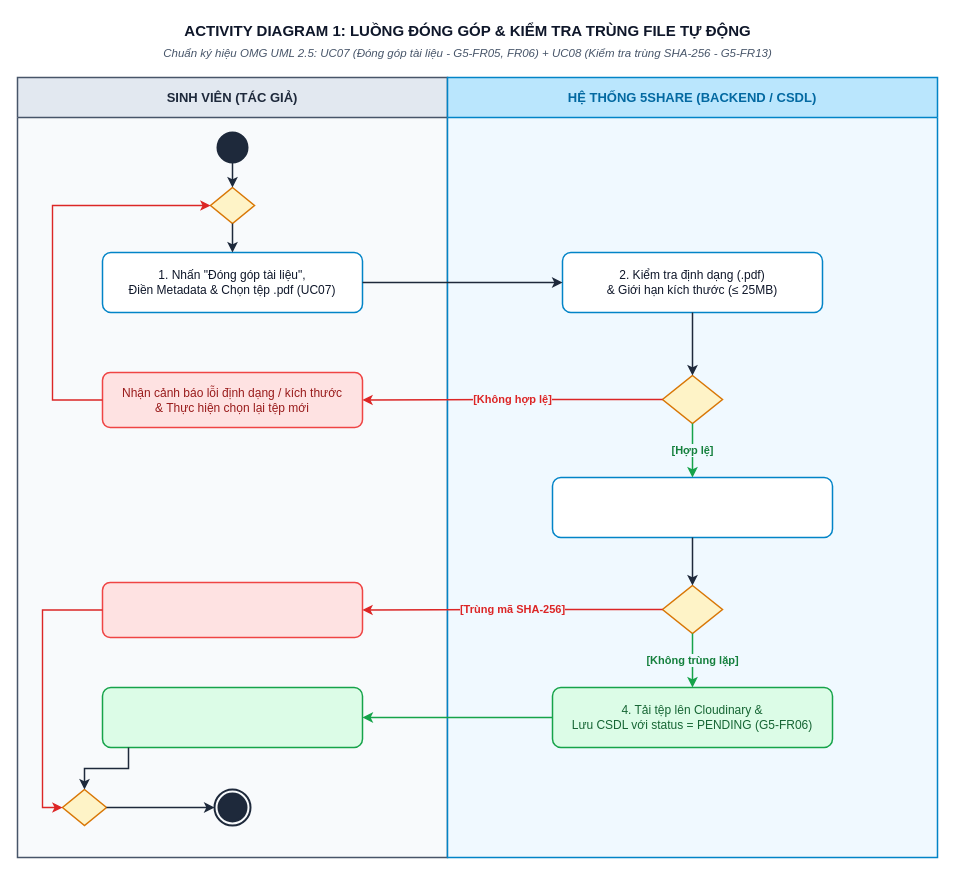
This 956x875 diagram has some shape labels left out. The box of each missing label's shape, as (x1, y1, x2, y2) in pixels:
3. Kiểm tra Magic Bytes (%PDF-) & Băm mã SHA-256 nội dung tệp (UC08): (551, 476, 833, 538)
5. Nhận thông báo nộp thành công & Theo dõi trạng thái trong Tủ cá nhân: (101, 686, 363, 748)
Nhận thông báo: "Tài liệu đã tồn tại" (Hệ thống từ chối tệp trùng lặp): (101, 581, 363, 638)
